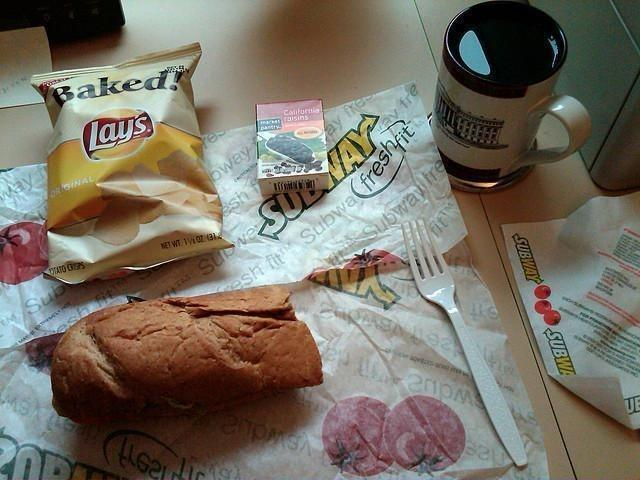cup-handle: (430, 0, 593, 193)
